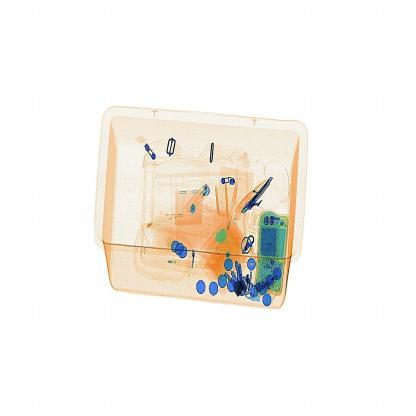wrench: (234, 170, 282, 218)
